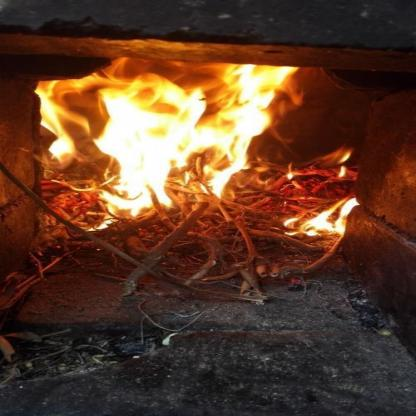fire: (22, 42, 369, 246)
